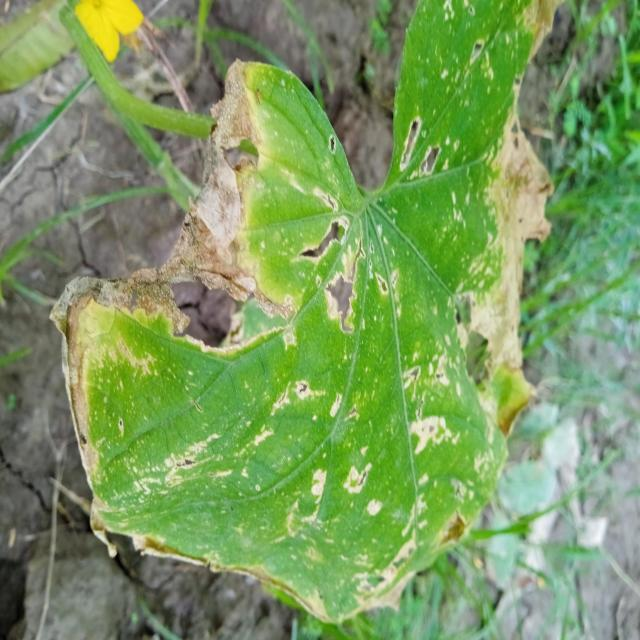cucumber_gummy: (48, 0, 560, 631)
